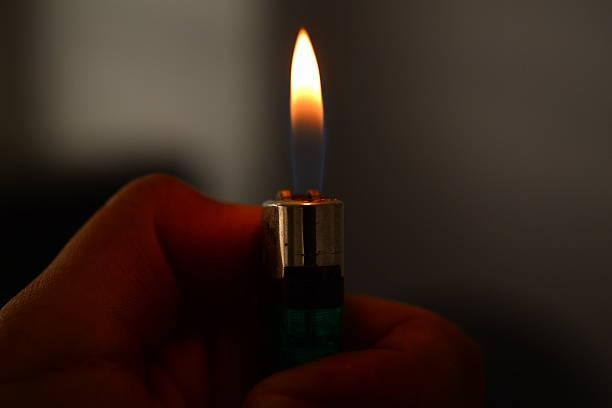Fire: (287, 24, 328, 194)
